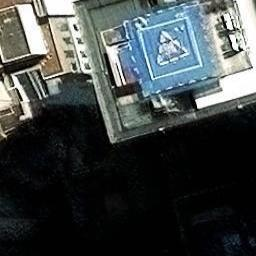heliponto: (138, 18, 202, 79)
